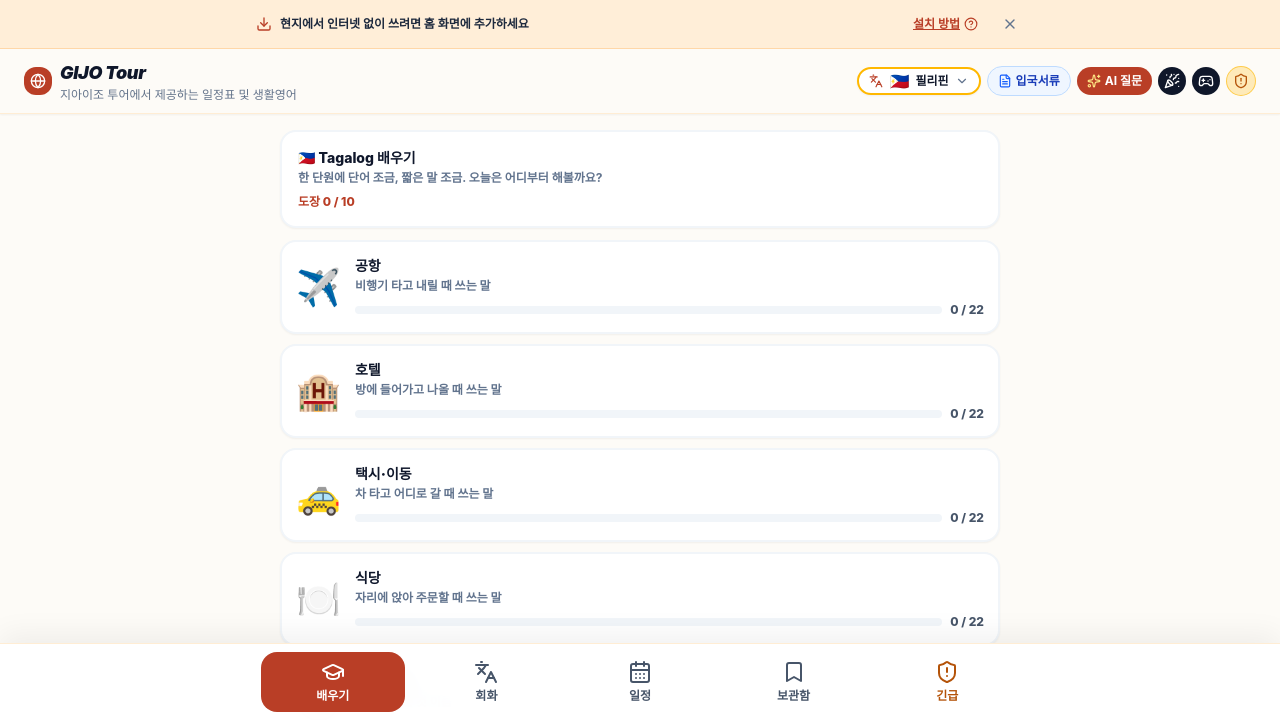
Test case: 배우기 탭 › 짧은 말 단계에서 전광판을 바로 열 수 있다
Step 1. Click the button "🏨 호텔 방에 들어가고 나올 때 쓰는 말 0 / 22" → (318, 391), box [280,344,1000,438]
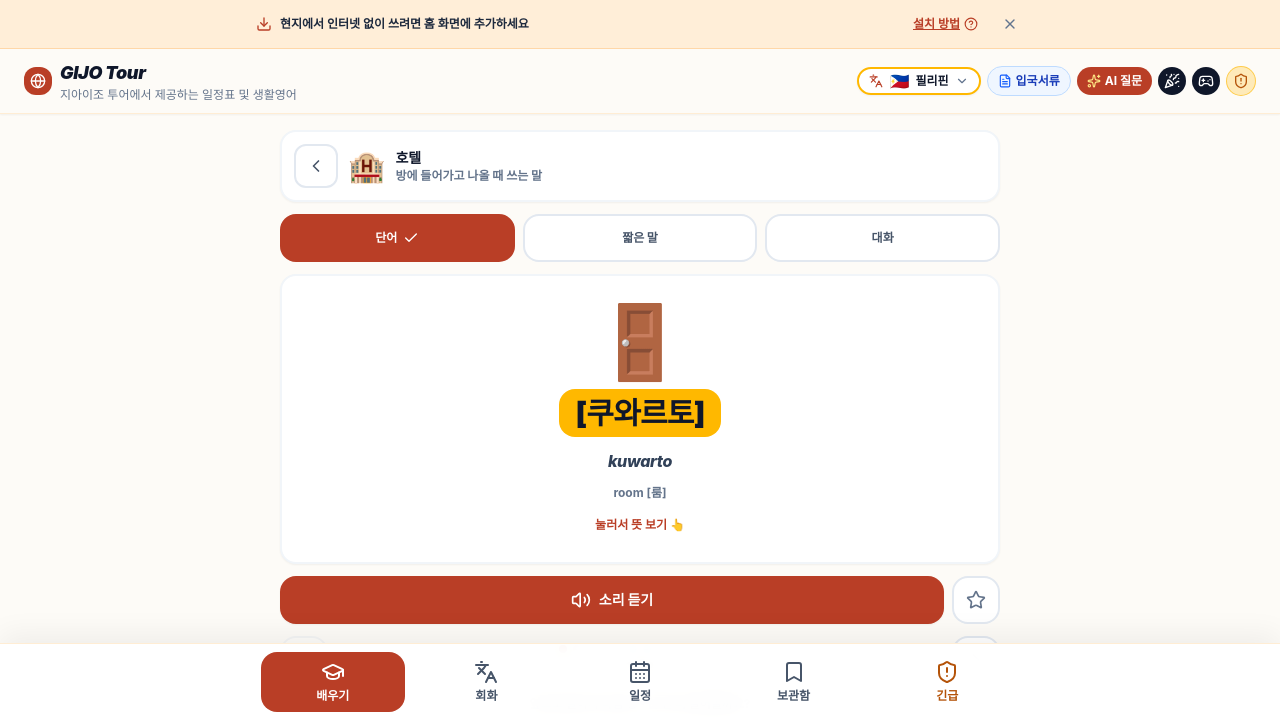
Step 2. Click the button with aria-label "짧은 말 단계" → (640, 238), box [523,214,757,262]
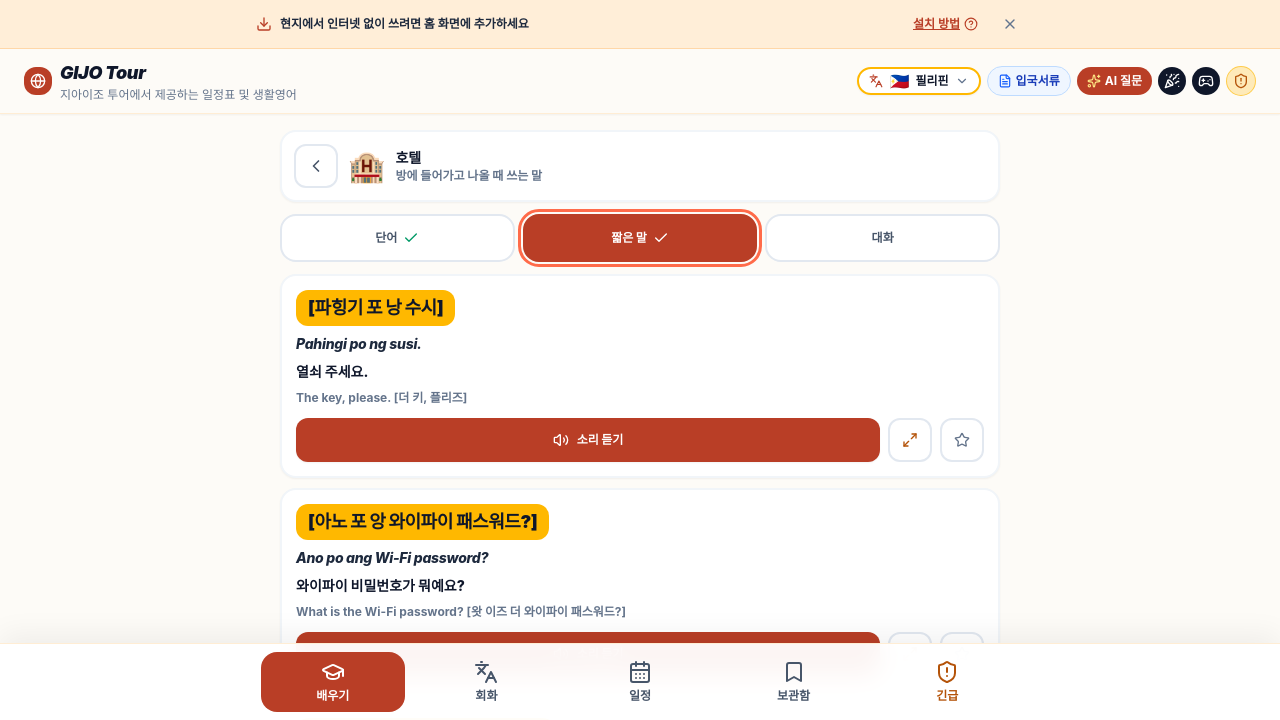
Step 3. Click the button named "전광판으로 크게 보기" → (910, 440), box [888,418,932,462]
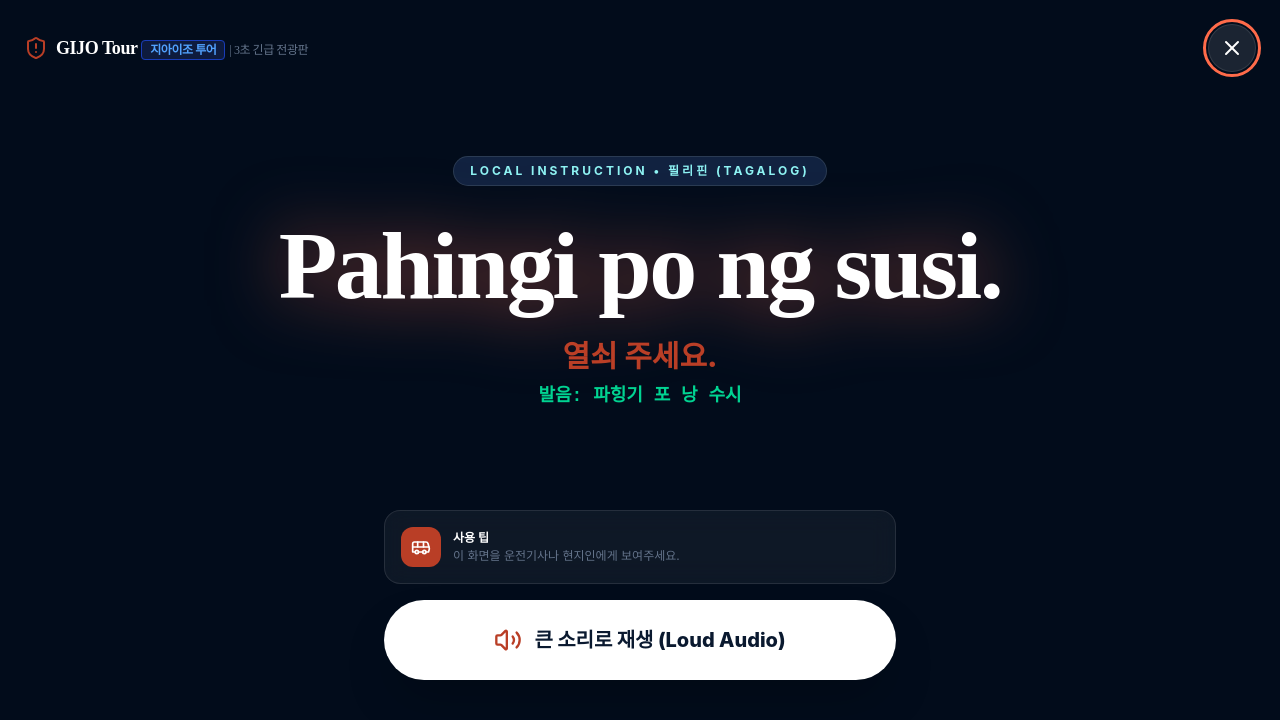
Expected: the dialog "긴급 전광판" is shown
Step 4. Press Escape
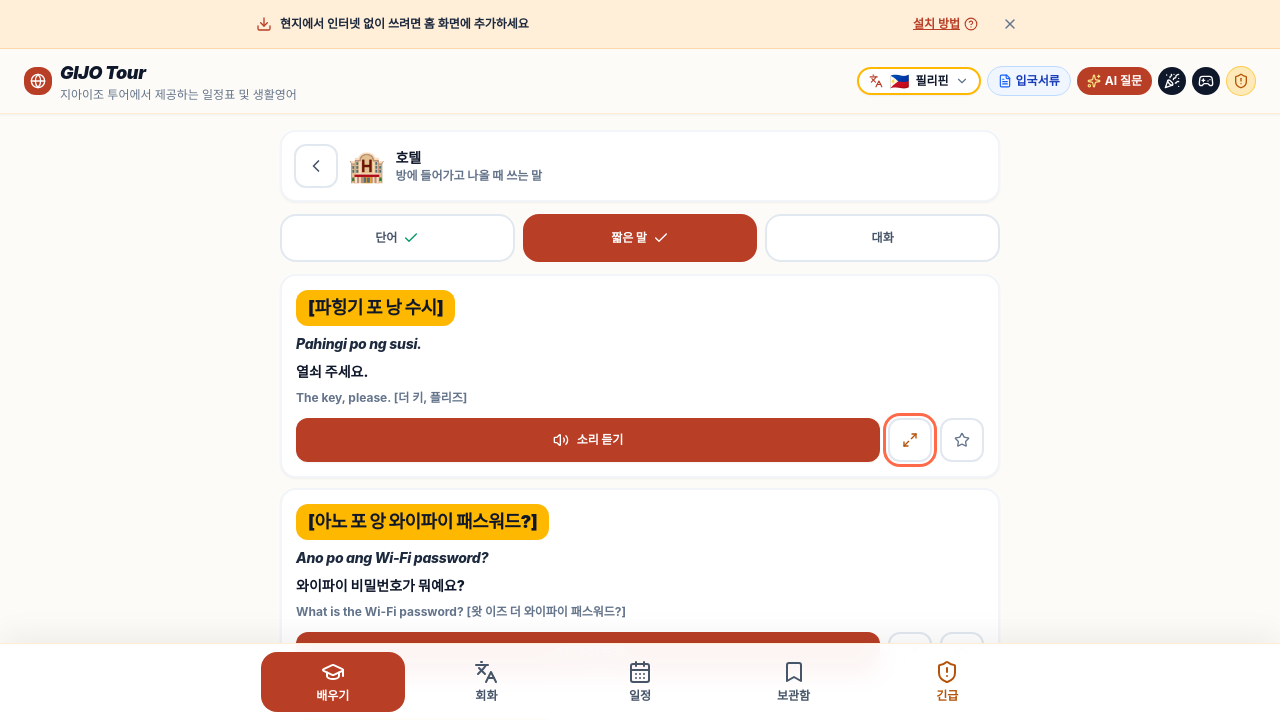
Expected: the dialog is gone
